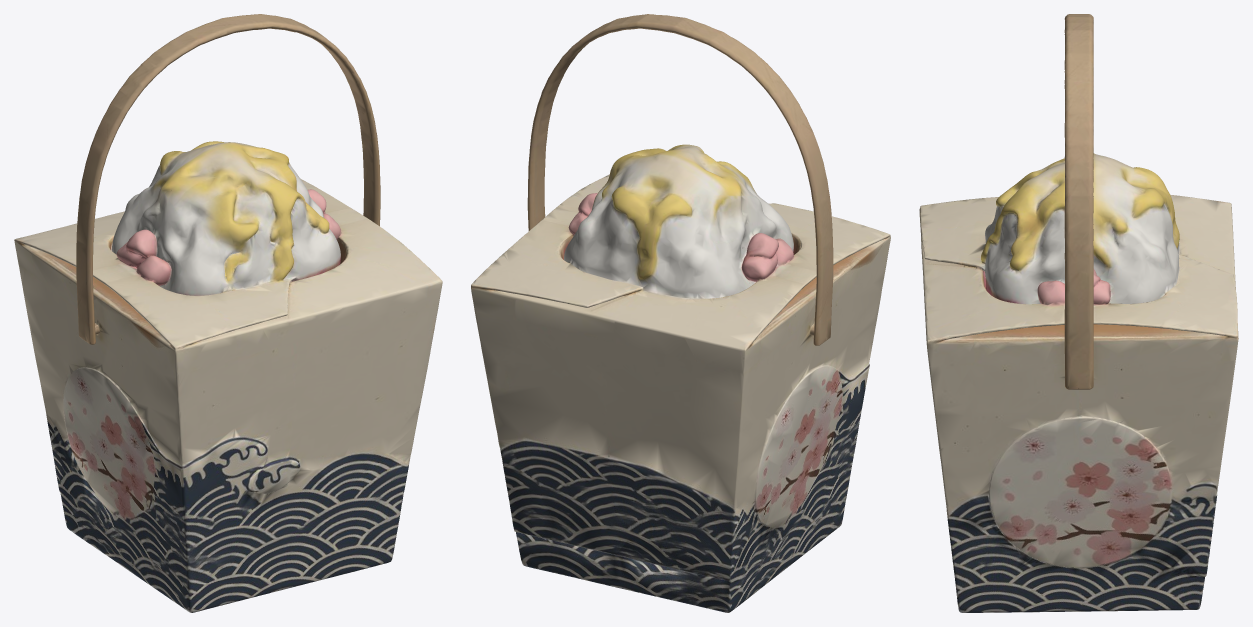
The model's file is COMMON_사물_food_bingsu_box_old.glb.
3 renders of one model, left to right at view 1: azimuth 30°, elevation 25°; view 2: azimuth 150°, elevation 25°; view 3: azimuth 270°, elevation 25°, orthographic.
Visible parts, largest first — view 1: tripo_node_6dd587b8-5b3e-43cb-9256-753692a00c3d; view 2: tripo_node_6dd587b8-5b3e-43cb-9256-753692a00c3d; view 3: tripo_node_6dd587b8-5b3e-43cb-9256-753692a00c3d.
Boxes of the visible parts, left/top/right/bottom form: tripo_node_6dd587b8-5b3e-43cb-9256-753692a00c3d: left=14, top=14, right=442, bottom=612; tripo_node_6dd587b8-5b3e-43cb-9256-753692a00c3d: left=471, top=14, right=890, bottom=612; tripo_node_6dd587b8-5b3e-43cb-9256-753692a00c3d: left=919, top=14, right=1238, bottom=612.
Size of the model in its own units: 0.5856 by 0.9999 by 0.5415.
Materials: 1 (1 with a texture image).
